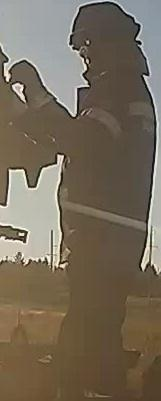gloves: (6, 58, 57, 113)
vest: (57, 73, 156, 273)
